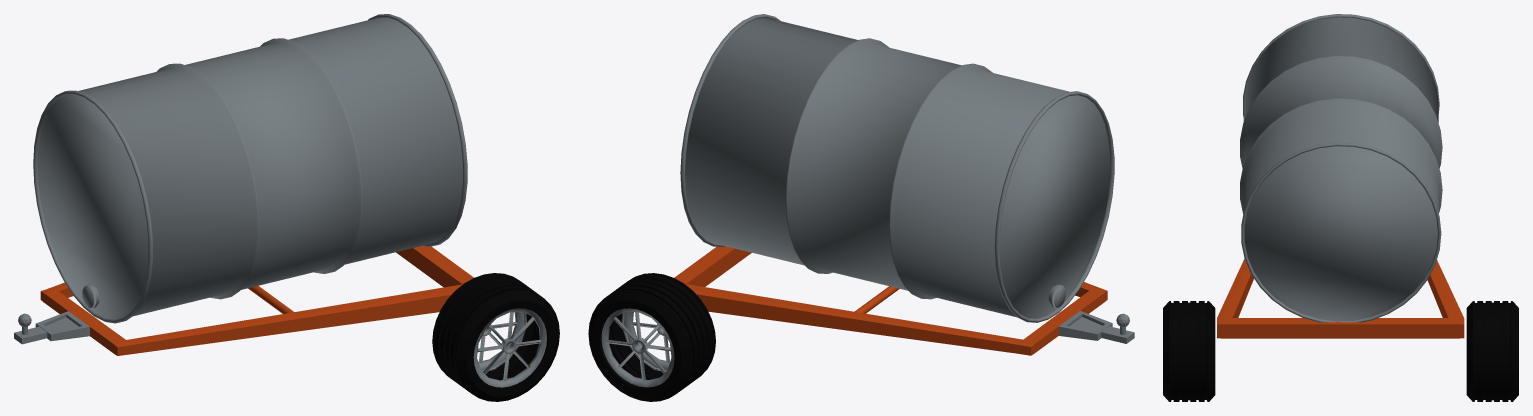
The model's file is OilTrailer.fbx.
The picture shows the model from 3 angles, left to right: view 1: azimuth 30°, elevation 25°; view 2: azimuth 150°, elevation 25°; view 3: azimuth 270°, elevation 25°; orthographic projection. The views are drawn at different scales.
Visible parts, largest first — view 1: Cylinder.001; view 2: Cylinder.001; view 3: Cylinder.001.
Boxes of the visible parts, x1,y1,x2,y2 form: Cylinder.001: (14,14,559,401); Cylinder.001: (588,14,1134,401); Cylinder.001: (1163,14,1518,401).
Bounding box in the file's own units: 847 × 560 × 705.
